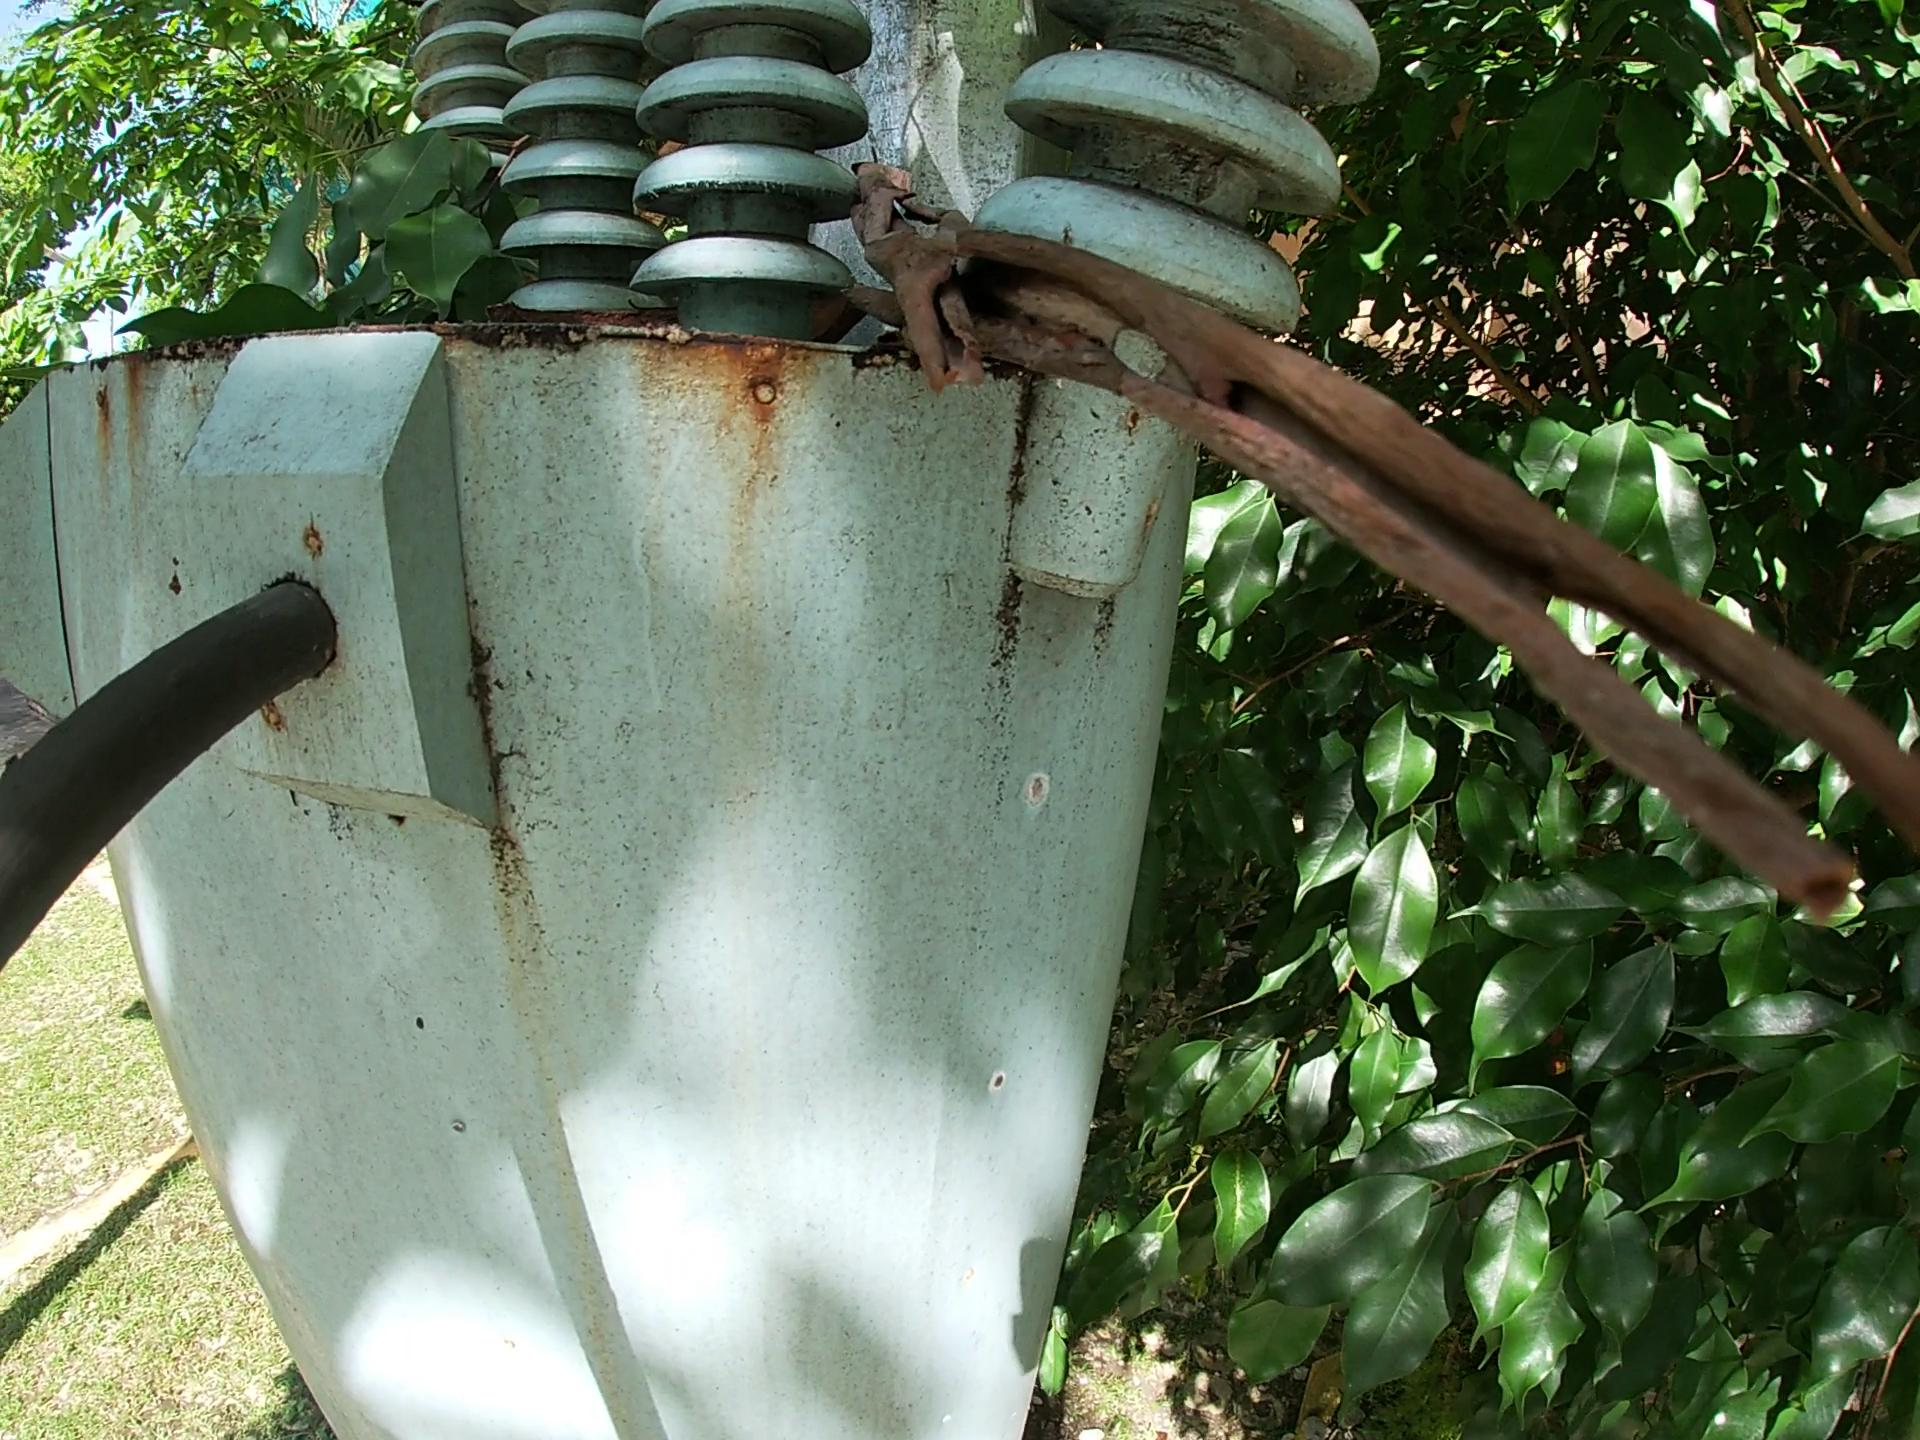branch with leaves: (71, 144, 500, 337)
mahogany fruit: (509, 295, 679, 330)
tree branch: (850, 145, 1920, 967)
